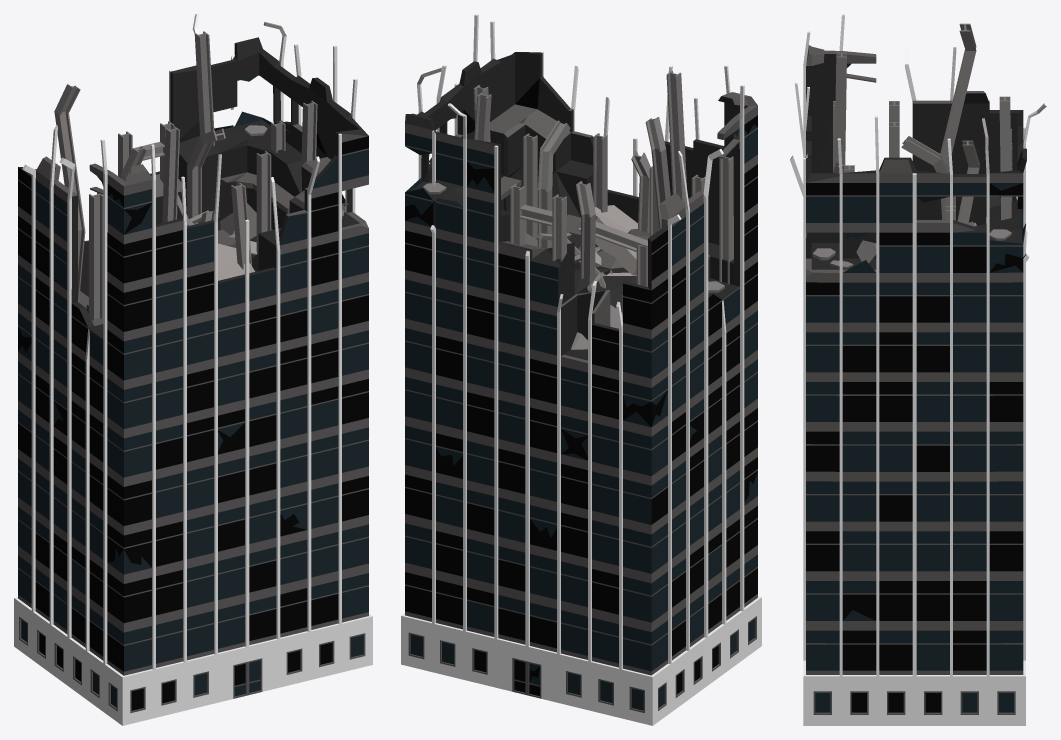
File: sm_destroyed_building_01.gltf
3 renders of one model, left to right at view 1: azimuth 30°, elevation 25°; view 2: azimuth 150°, elevation 25°; view 3: azimuth 270°, elevation 25°, orthographic. The views are drawn at different scales.
Visible parts, largest first — view 1: building-office-tall-apocalypse-a; view 2: building-office-tall-apocalypse-a; view 3: building-office-tall-apocalypse-a.
Part boxes in pixels (x1=…): building-office-tall-apocalypse-a: x1=14, y1=14, x2=372, y2=725; building-office-tall-apocalypse-a: x1=401, y1=14, x2=761, y2=725; building-office-tall-apocalypse-a: x1=790, y1=14, x2=1046, y2=725.
Bounding box in the file's own units: 20.55 × 44 × 16.84.
1 material, 1 textured.
